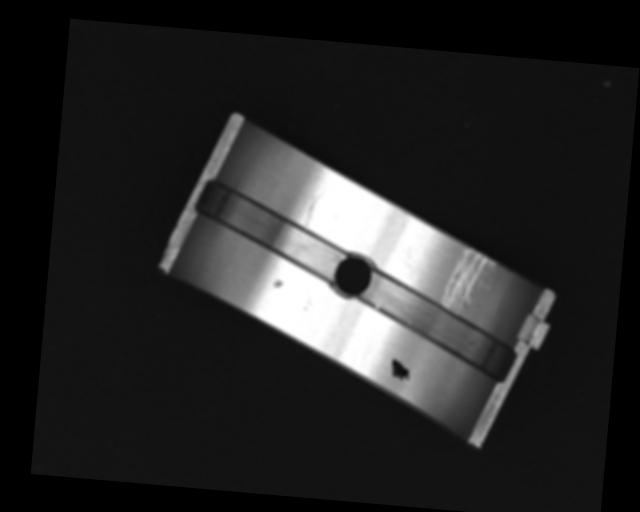blot: (388, 357, 412, 382)
bruise: (272, 279, 283, 288)
gap: (354, 274, 522, 383), (189, 181, 354, 278)
hole: (331, 252, 373, 299)
nick: (302, 186, 326, 230)
scratch: (440, 247, 496, 314)
